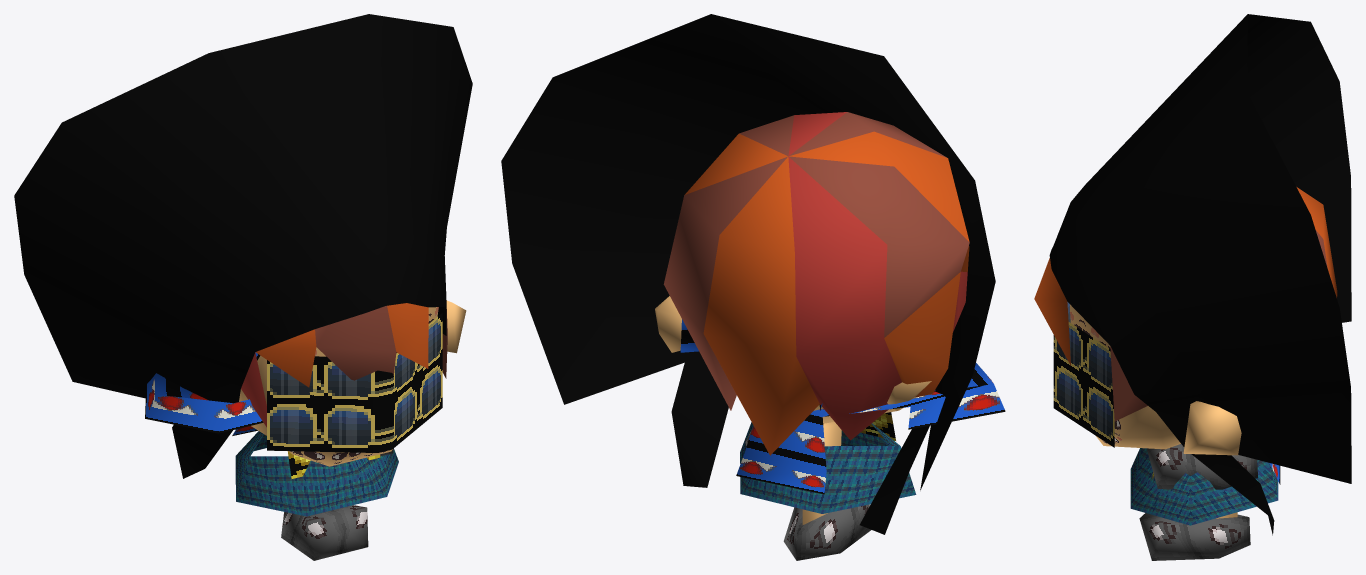
3 renders of one model, left to right at view 1: azimuth 30°, elevation 25°; view 2: azimuth 150°, elevation 25°; view 3: azimuth 270°, elevation 25°, orthographic. The views are drawn at different scales.
Parts seen in each view (by area): view 1: pmd05_07_01; view 2: pmd05_07_01; view 3: pmd05_07_01.
Boxes of the visible parts, box(x1,y1,x2,y2) form: pmd05_07_01: box(14, 14, 472, 560); pmd05_07_01: box(501, 14, 1005, 560); pmd05_07_01: box(1034, 14, 1351, 560).
Bounding box in the file's own units: 1.7 × 1.73 × 1.01.
9 materials, 9 textured.
